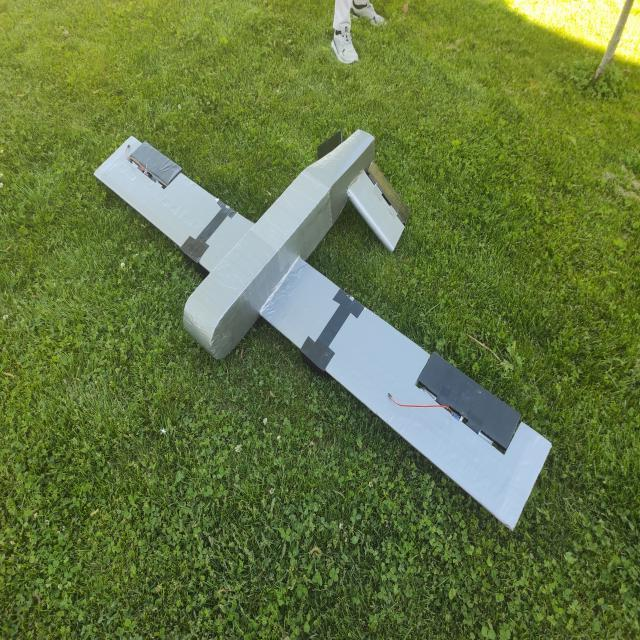iha: (76, 101, 562, 544)
